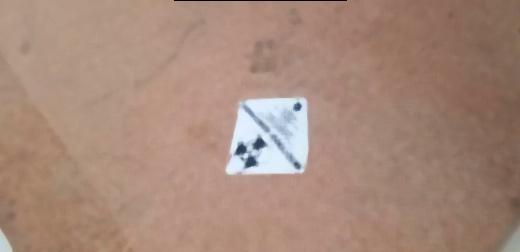infectious-substance: (225, 96, 308, 176)
